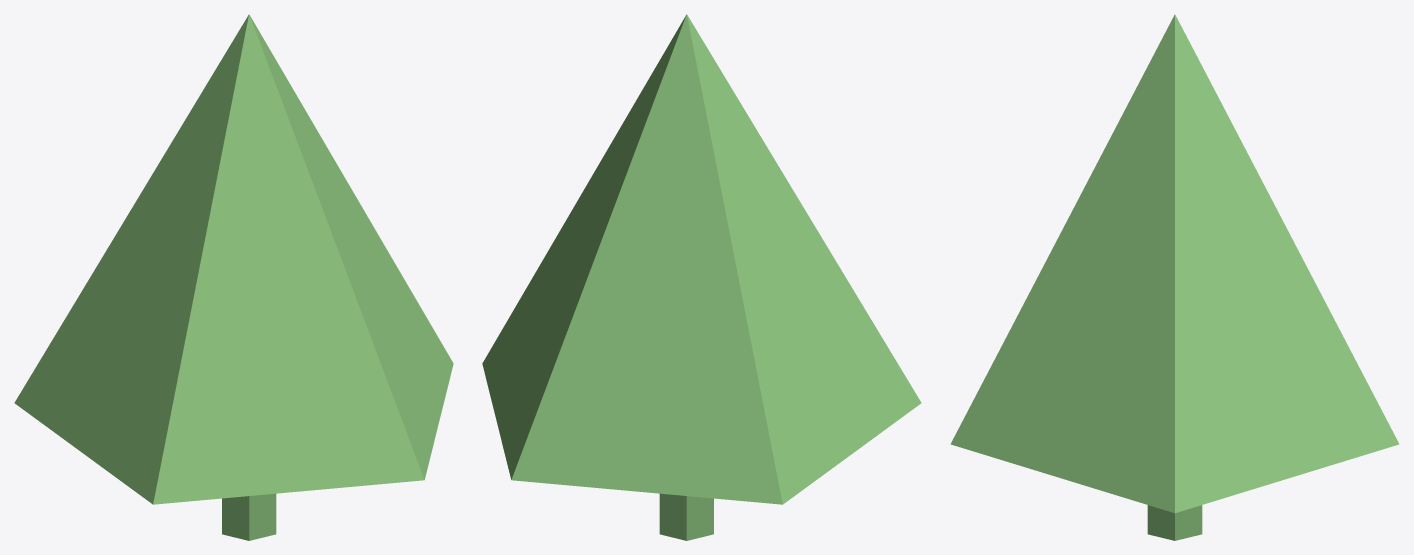
File: Fern.glb
The picture shows the model from 3 angles, left to right: view 1: azimuth 30°, elevation 25°; view 2: azimuth 150°, elevation 25°; view 3: azimuth 270°, elevation 25°; orthographic projection.
Parts seen in each view (by area): view 1: filler_Fern; view 2: filler_Fern; view 3: filler_Fern.
Part boxes in pixels (x1=…): filler_Fern: x1=14, y1=14, x2=453, y2=540; filler_Fern: x1=482, y1=14, x2=921, y2=540; filler_Fern: x1=950, y1=14, x2=1399, y2=540.
Size of the model in its own units: 0.6784 by 0.9 by 0.7133.
